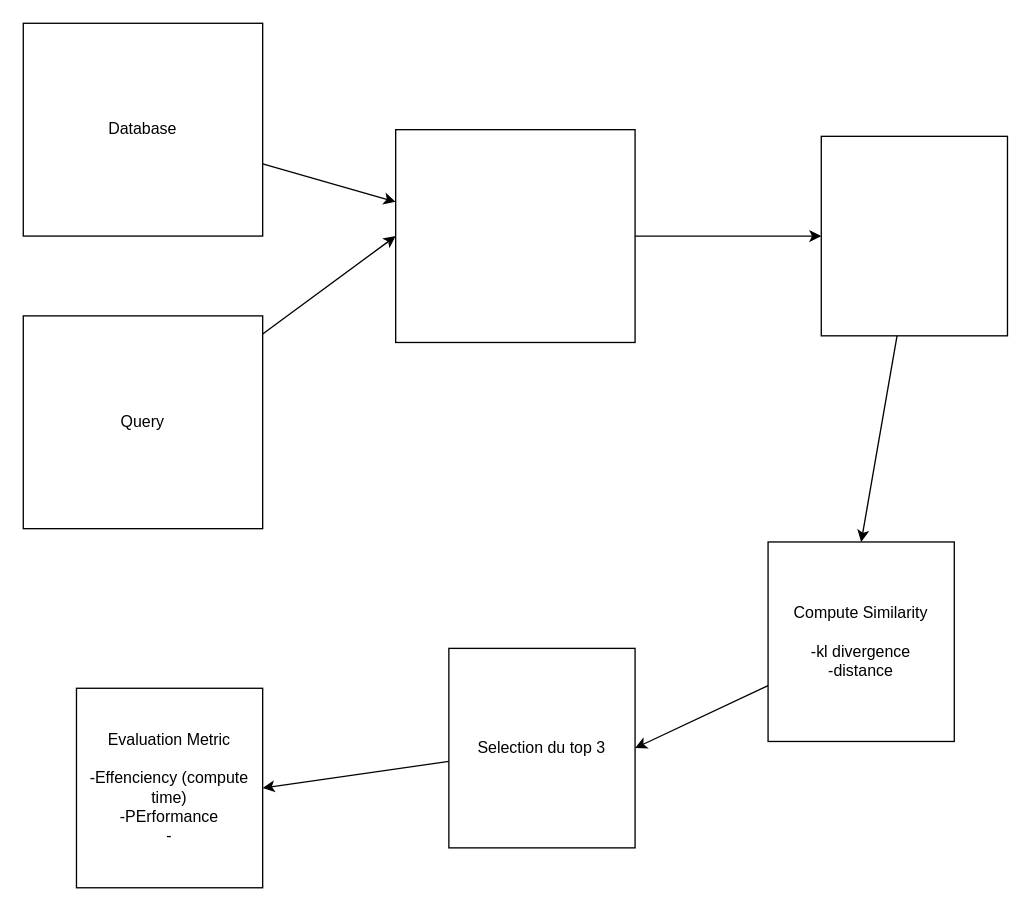
Some shapes in this 1031 by 911 pixel diagram are drawn without their labels. The box of each missing label's shape, as (x1, y1, x2, y2) in pixels:
Descriptor -Histogram: (820, 135, 1007, 336)
Feature - Co-occurence Matrix - Local Binary Patterns: (394, 128, 635, 342)
